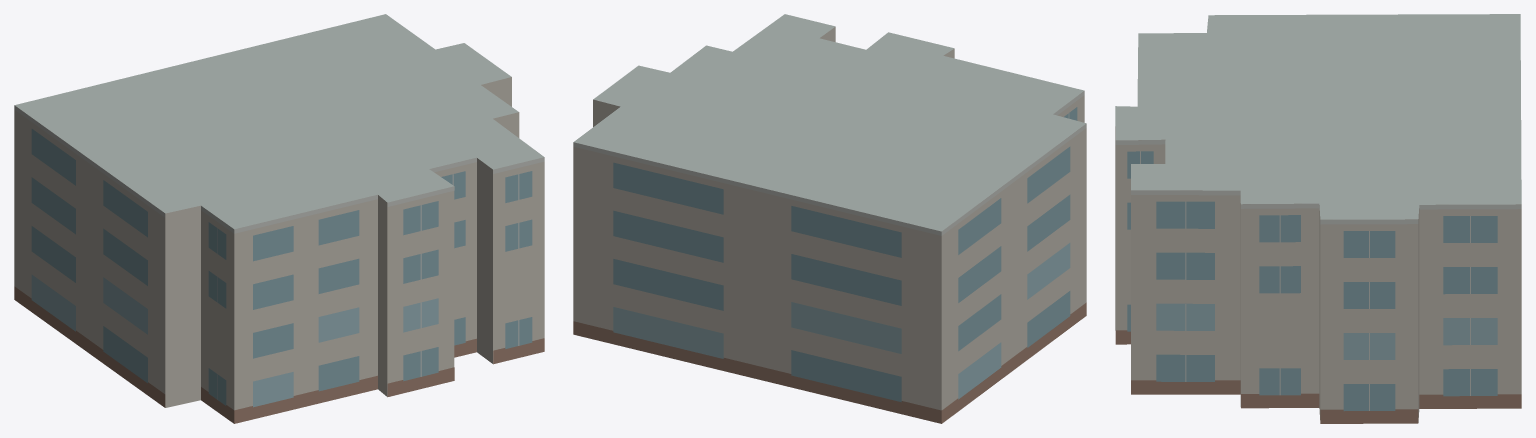
File: survey-upis-33013377.glb
The picture shows the model from 3 angles, left to right: view 1: azimuth 30°, elevation 25°; view 2: azimuth 150°, elevation 25°; view 3: azimuth 270°, elevation 25°; orthographic projection. The views are drawn at different scales.
Parts seen in each view (by area): view 1: survey-upis-33013377.tmp; view 2: survey-upis-33013377.tmp; view 3: survey-upis-33013377.tmp.
Part boxes in pixels (left/top/right/bottom): survey-upis-33013377.tmp: left=14, top=14, right=544, bottom=423; survey-upis-33013377.tmp: left=573, top=14, right=1086, bottom=423; survey-upis-33013377.tmp: left=1115, top=14, right=1521, bottom=423.
Size of the model in its own units: 22.93 by 10.6 by 19.13.
